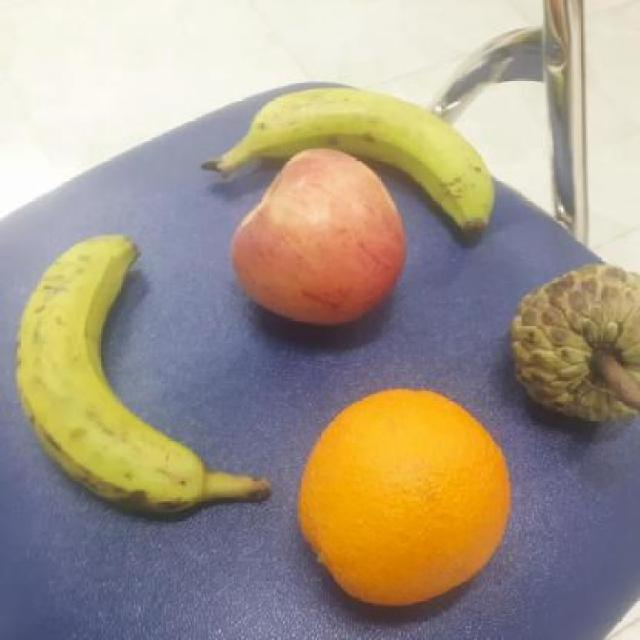apple: (222, 146, 410, 337)
banana: (11, 236, 204, 521)
oren: (297, 386, 511, 609)
sugar apple: (511, 258, 640, 425)
